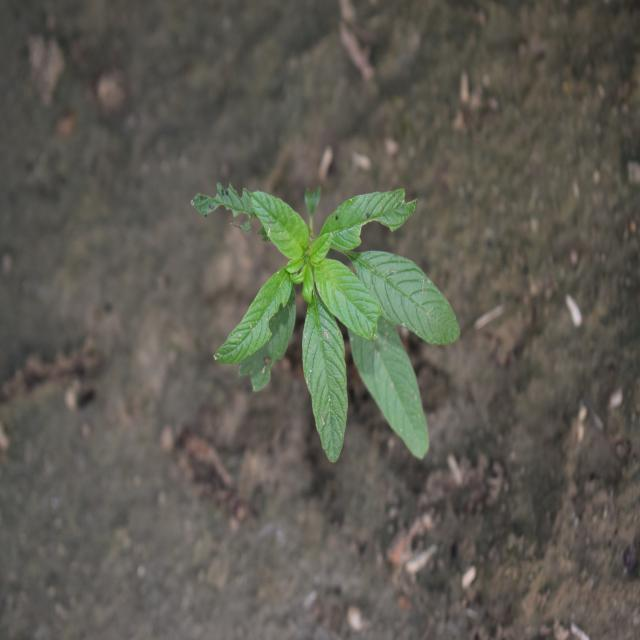Waterhemp: (190, 180, 462, 466)
